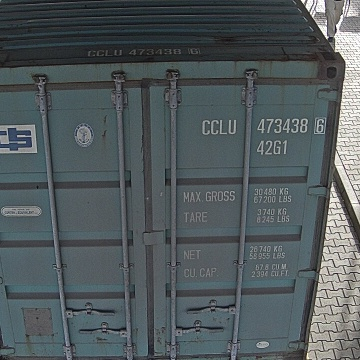serial_id: (201, 118, 325, 135)
